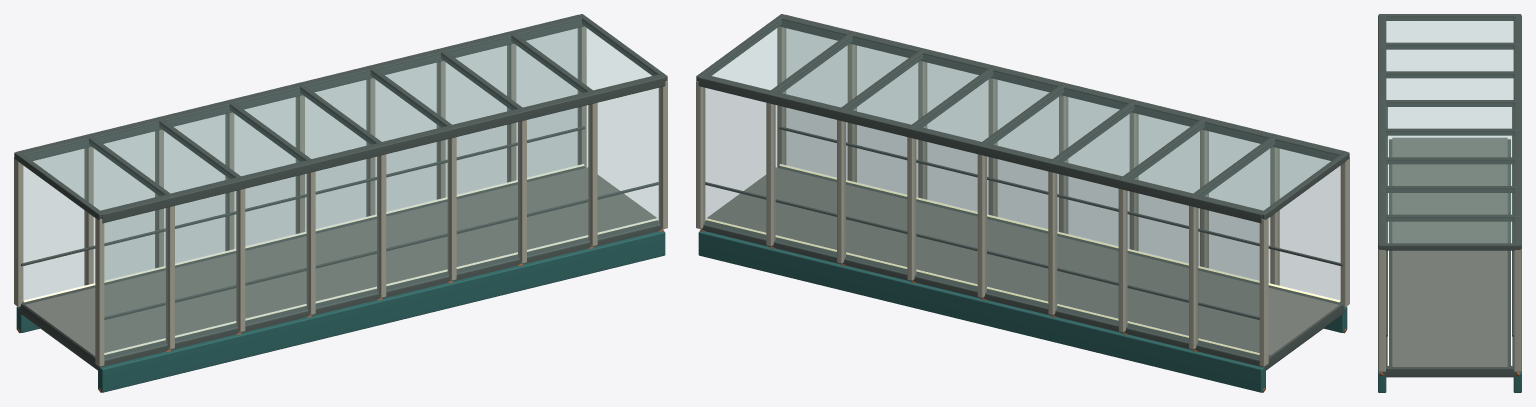
The model's file is glass_bridge.glb.
3 renders of one model, left to right at view 1: azimuth 30°, elevation 25°; view 2: azimuth 150°, elevation 25°; view 3: azimuth 270°, elevation 25°, orthographic. The views are drawn at different scales.
Parts seen in each view (by area): view 1: glass_bridge; view 2: glass_bridge; view 3: glass_bridge.
Part boxes in pixels (x1,y1,x2,y2): glass_bridge: (14, 14, 667, 392); glass_bridge: (696, 14, 1349, 392); glass_bridge: (1378, 14, 1521, 392).
Size of the model in its own units: 16.15 by 4.89 by 4.24.
